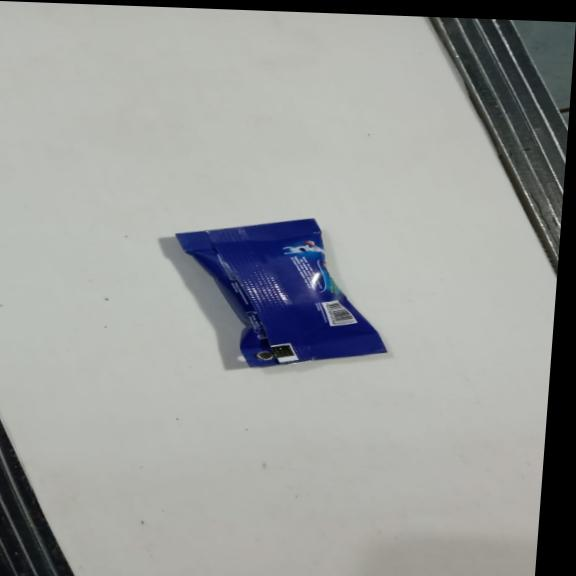Plastik: (168, 211, 401, 373)
